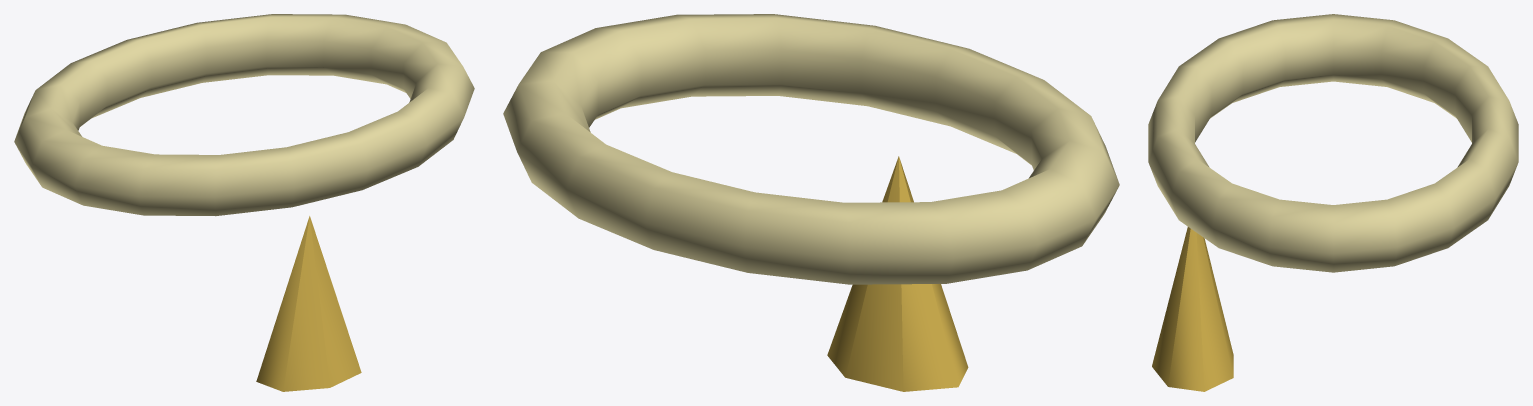
The model's file is wearable.glb.
3 renders of one model, left to right at view 1: azimuth 30°, elevation 25°; view 2: azimuth 150°, elevation 25°; view 3: azimuth 270°, elevation 25°, orthographic. The views are drawn at different scales.
Visible parts, largest first — view 1: wearable_band, wearable_charm; view 2: wearable_band, wearable_charm; view 3: wearable_band, wearable_charm.
Part boxes in pixels (<box>): wearable_band: <box>14,14,474,216</box>; wearable_charm: <box>256,216,361,391</box>; wearable_band: <box>503,14,1119,284</box>; wearable_charm: <box>827,156,968,391</box>; wearable_band: <box>1148,14,1518,272</box>; wearable_charm: <box>1152,227,1233,391</box>.
Size of the model in its own units: 0.678 by 0.3639 by 0.4807.
